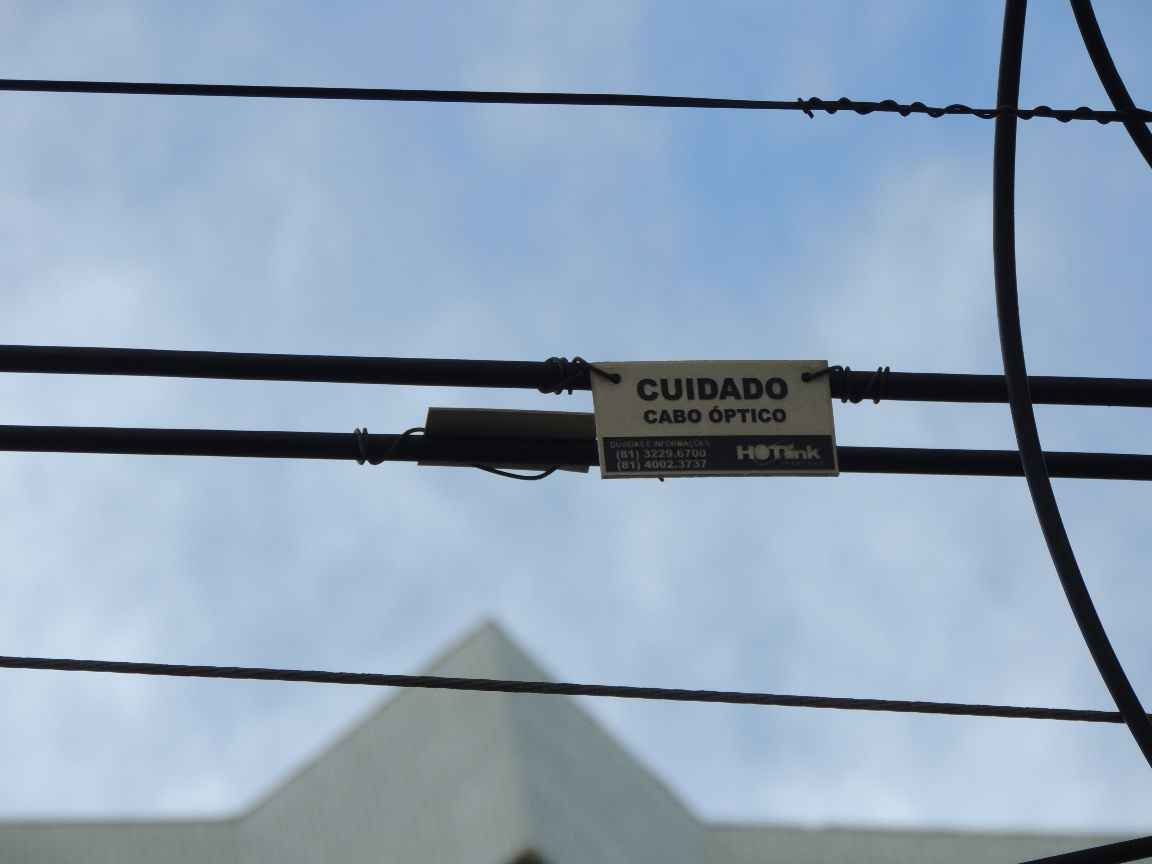fibra_optica: (575, 347, 847, 489)
